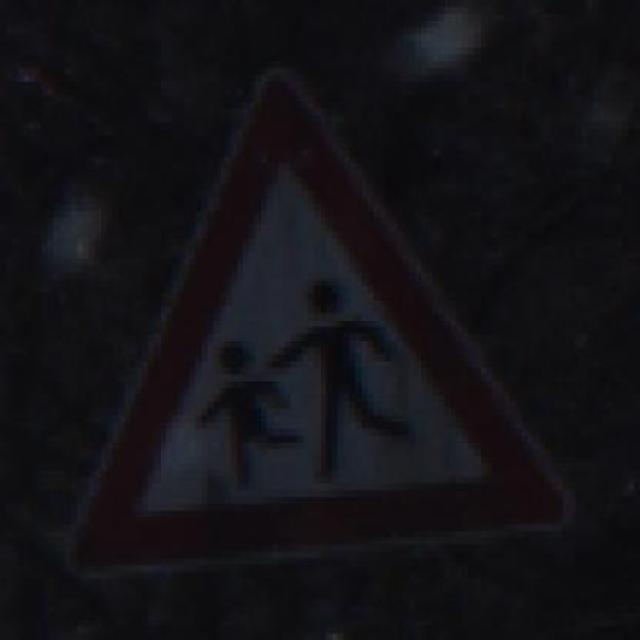Beware of children: (70, 61, 582, 558)
